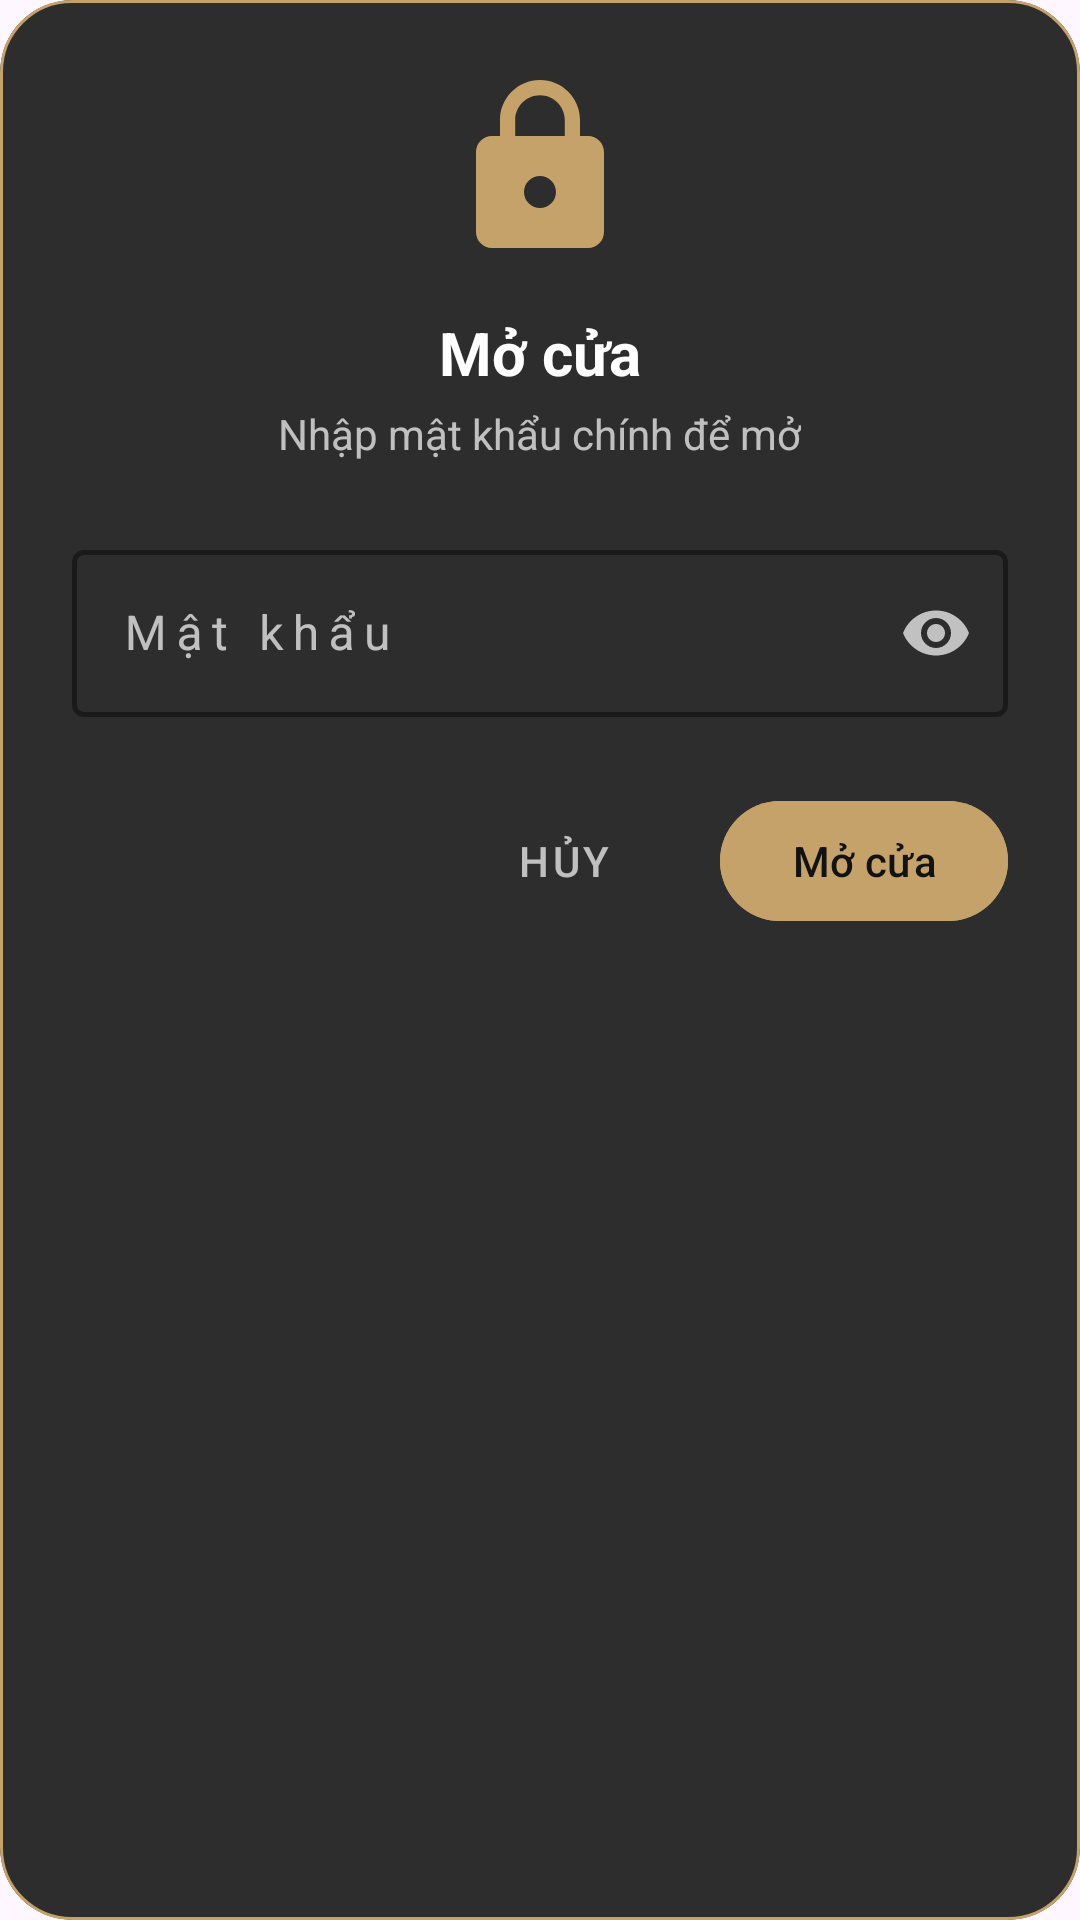

Locate icon controls on the screen. Image size 1080 x 1920, boxes as (x1, y1, x2, y2).
lock: (476, 80, 604, 248)
